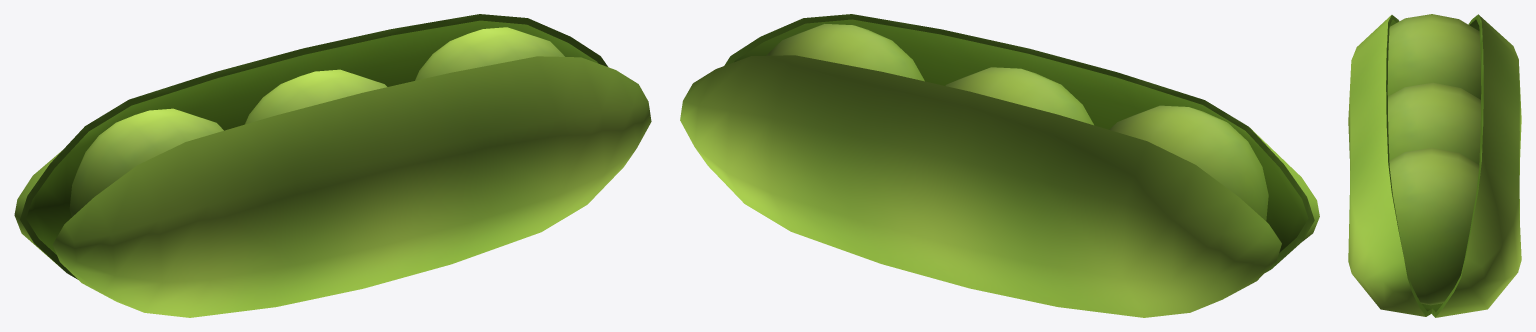
The model's file is Pea.FBX.
3 views of the same model, side by side, from view 1: azimuth 30°, elevation 25°; view 2: azimuth 150°, elevation 25°; view 3: azimuth 270°, elevation 25° (orthographic). The views are drawn at different scales.
Parts seen in each view (by area): view 1: Pea; view 2: Pea; view 3: Pea.
Part boxes in pixels (x1,y1,x2,y2): Pea: (14,14,651,317); Pea: (680,14,1319,317); Pea: (1348,14,1521,317).
Size of the model in its own units: 284 by 93.08 by 87.32.
